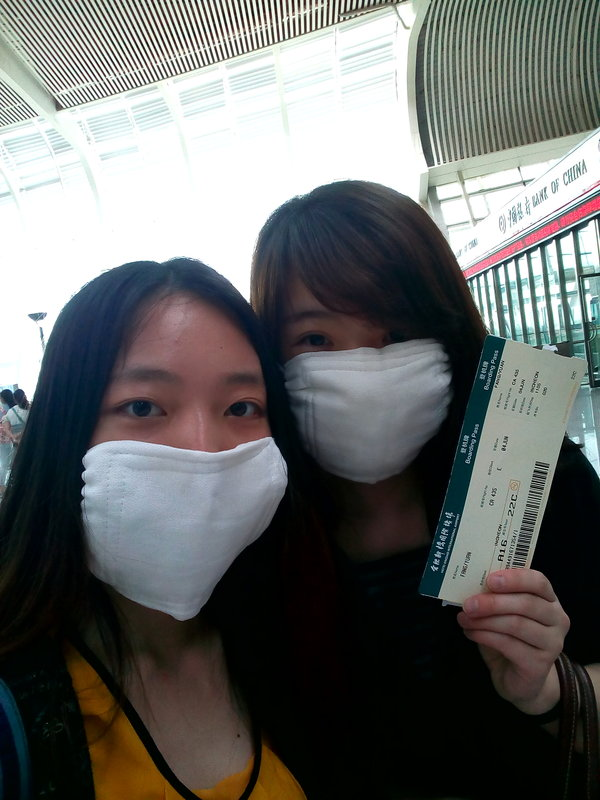face_mask: (82, 286, 281, 615), (280, 277, 427, 481)
